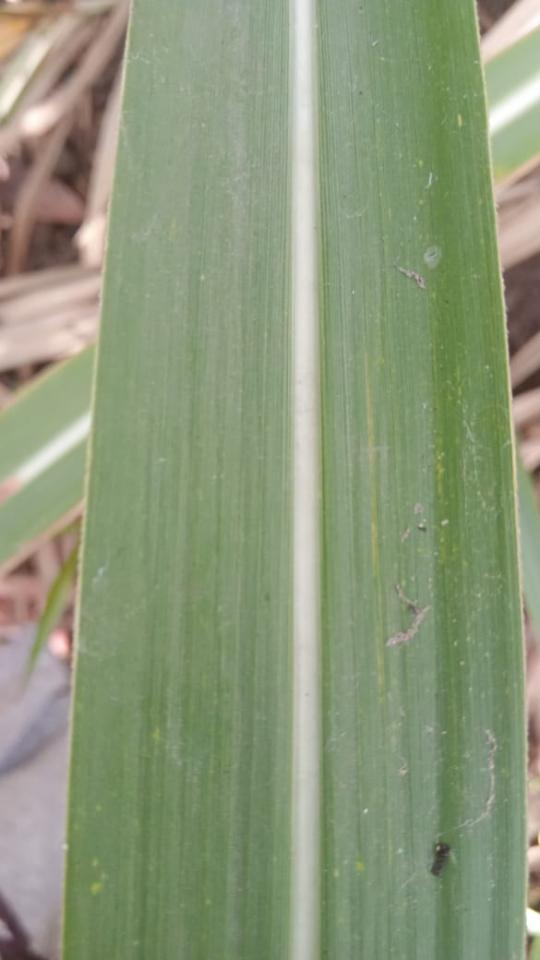Healthy: (62, 0, 526, 959)
